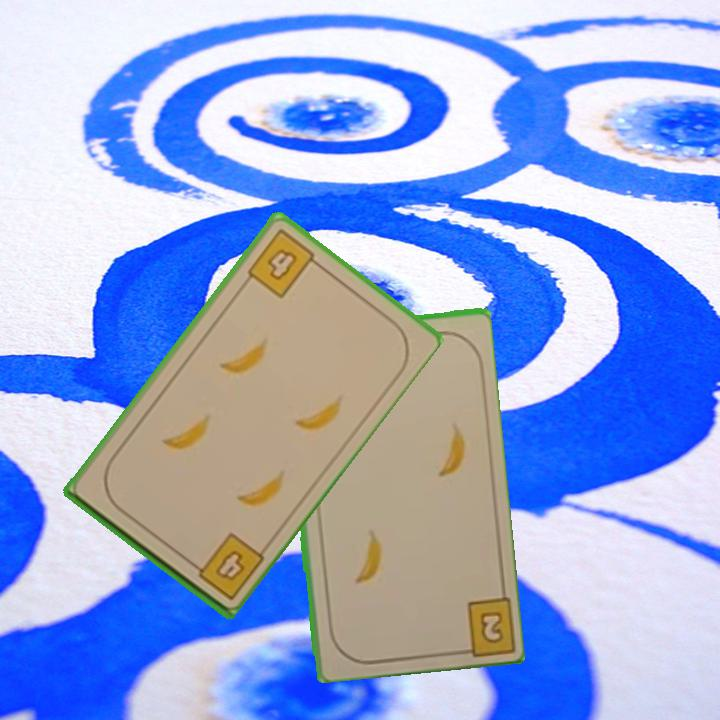2b: (450, 591, 515, 657)
4b: (243, 225, 324, 302), (184, 528, 267, 603)
